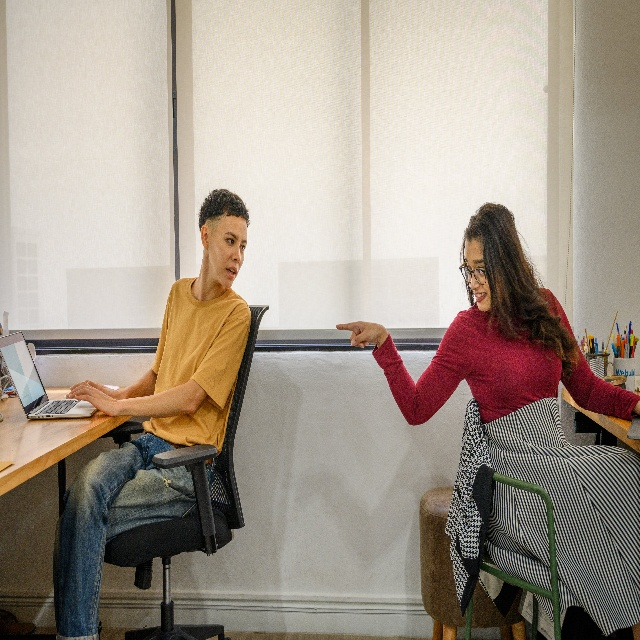Gafas: (459, 257, 487, 287)
Sin_guantes: (336, 319, 389, 356), (66, 381, 119, 417), (70, 379, 120, 400)
